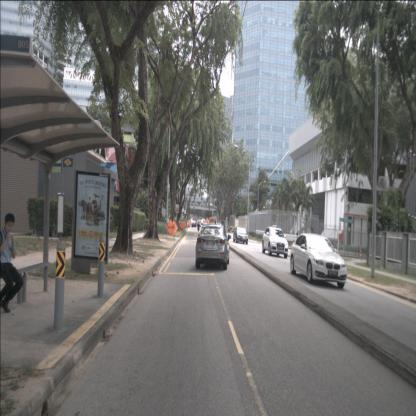human-pedestrian-adult: (0, 213, 24, 314)
vehicle-car: (290, 234, 347, 288), (196, 225, 230, 270), (262, 226, 288, 258), (233, 227, 248, 244), (192, 221, 196, 228)
vehicle-motorcycle: (197, 222, 200, 232)
